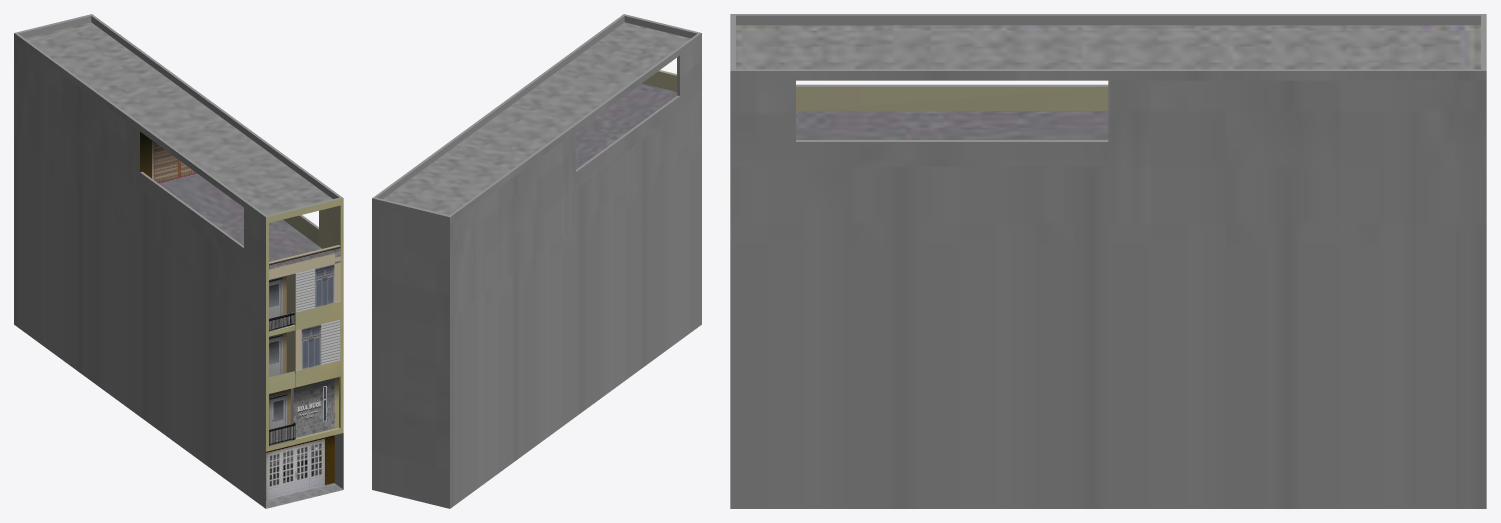
3 renders of one model, left to right at view 1: azimuth 30°, elevation 25°; view 2: azimuth 150°, elevation 25°; view 3: azimuth 270°, elevation 25°, orthographic. The views are drawn at different scales.
Parts seen in each view (by area): view 1: 5cd400a1c833656db821dae2.001; view 2: 5cd400a1c833656db821dae2.001; view 3: 5cd400a1c833656db821dae2.001.
Part boxes in pixels (box(x1,y1,x2,y2)): 5cd400a1c833656db821dae2.001: box(14, 14, 343, 508); 5cd400a1c833656db821dae2.001: box(372, 14, 701, 508); 5cd400a1c833656db821dae2.001: box(730, 14, 1486, 508).
Bounding box in the file's own units: 5 × 17.89 × 28.
Materials: 1 (1 with a texture image).
